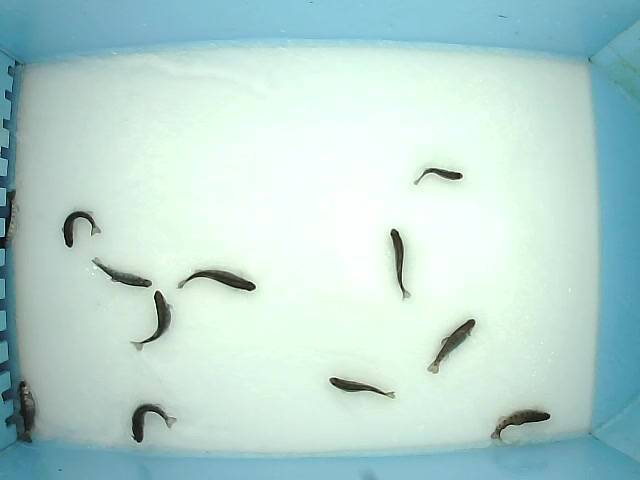fish: (426, 318, 476, 376), (128, 289, 174, 352), (489, 408, 552, 442), (91, 256, 153, 289), (130, 403, 178, 443), (176, 269, 257, 292), (328, 376, 397, 400), (61, 209, 102, 249), (390, 227, 412, 301), (16, 380, 37, 444), (413, 167, 464, 187)
